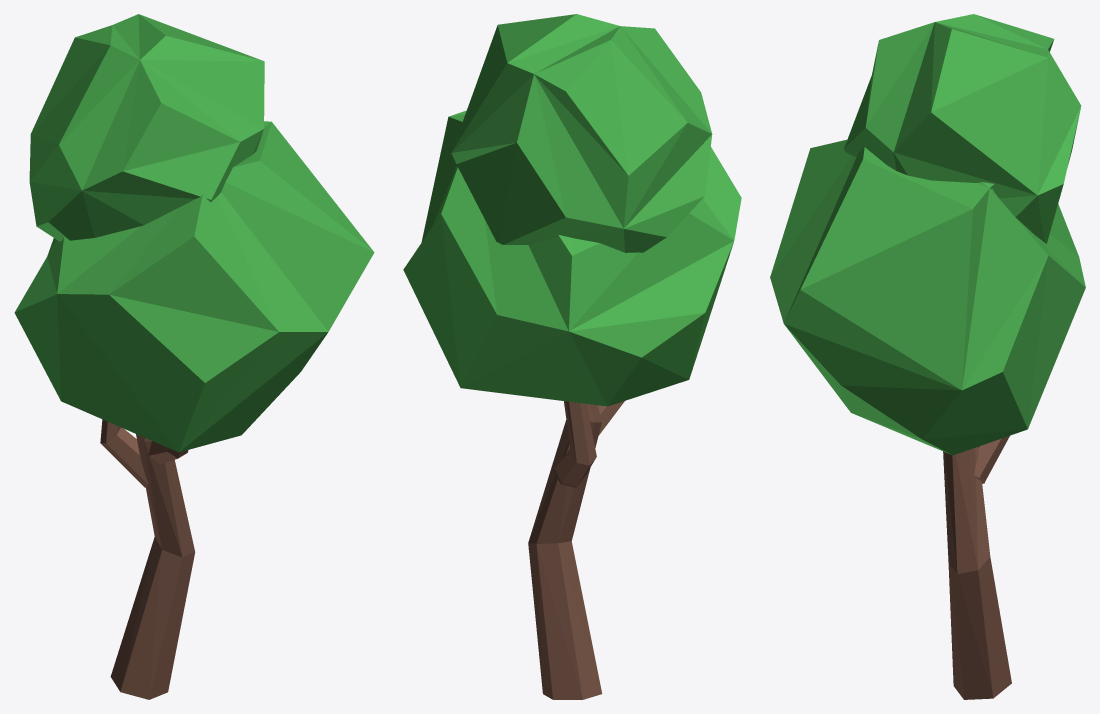
File: tree.glb
3 views of the same model, side by side, from view 1: azimuth 30°, elevation 25°; view 2: azimuth 150°, elevation 25°; view 3: azimuth 270°, elevation 25° (orthographic).
Visible parts, largest first — view 1: group313951583; view 2: group313951583; view 3: group313951583.
Boxes of the visible parts, box(x1,y1,x2,y2) form: group313951583: box(14, 14, 374, 699); group313951583: box(403, 14, 741, 699); group313951583: box(770, 14, 1085, 699).
Bounding box in the file's own units: 0.213 × 0.461 × 0.1979.
